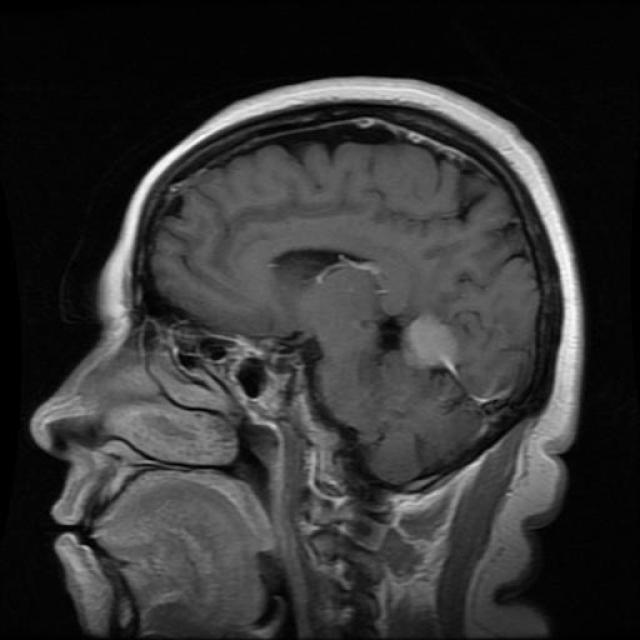meningioma: (402, 312, 459, 375)
